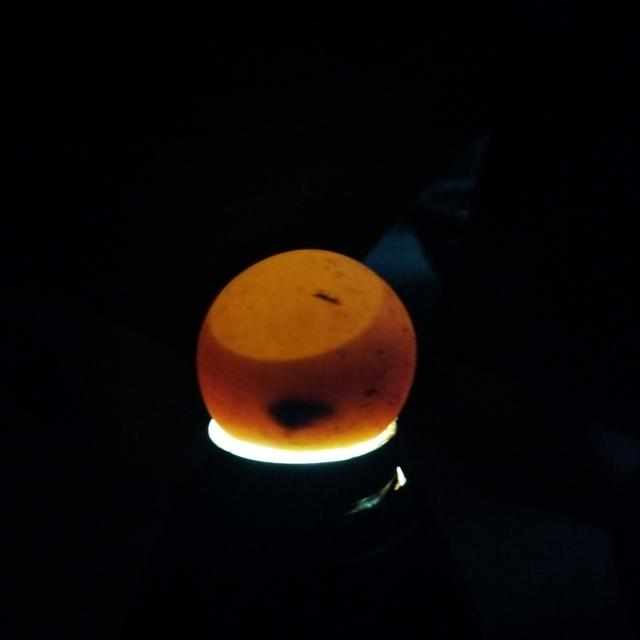Area Infectada: (261, 343, 399, 435)
